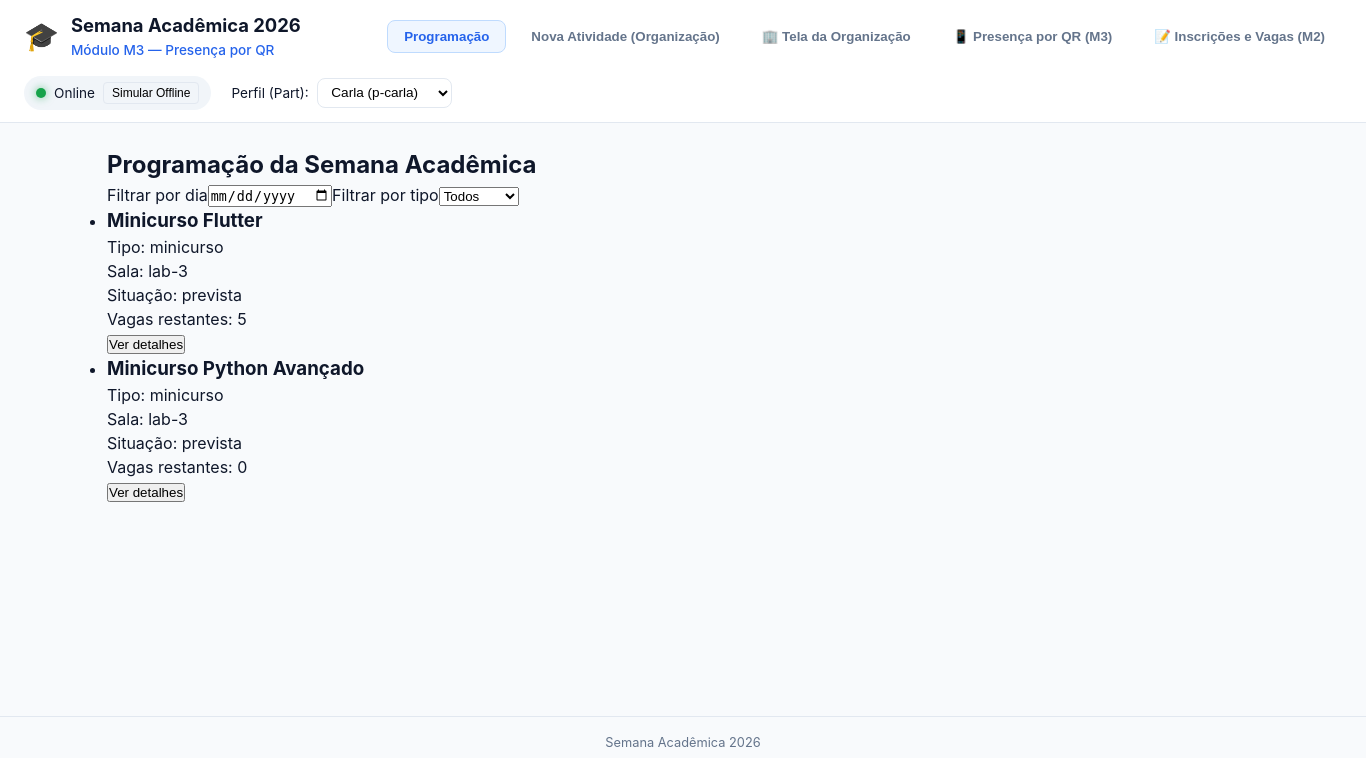
Test: M3 — Suporte Offline e Sincronização Resiliente › integração na aplicação completa: simulação offline via navbar armazena leitura e atualiza badge
// Navega para a tela do participante
Click the button with test id "tab-participante" at (1032, 36), box [936,20,1129,52]
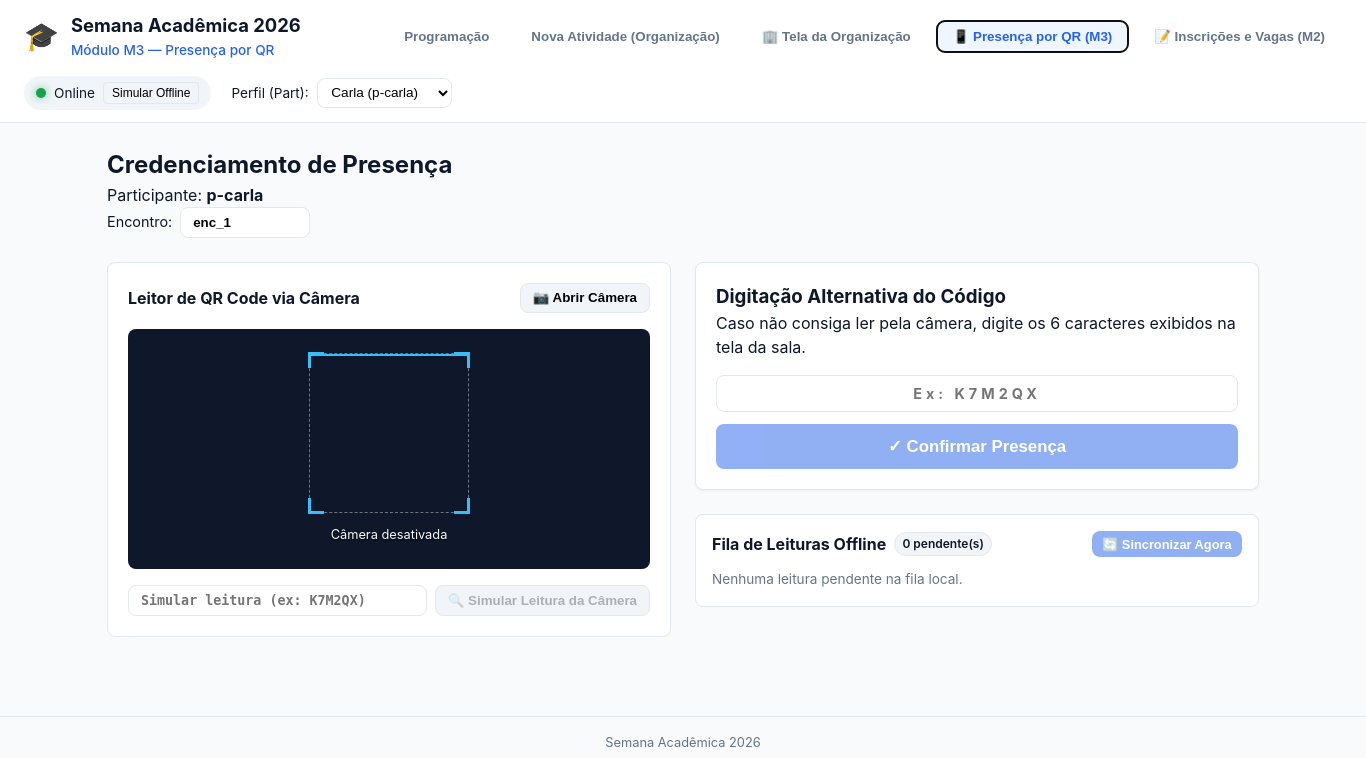
Expected: the element with test id "participante-screen" is shown, [107,147,1259,637]
// Ativa simulação de offline pelo botão da Navbar
Click the button with test id "btn-toggle-offline" at (151, 93), box [103,82,200,104]
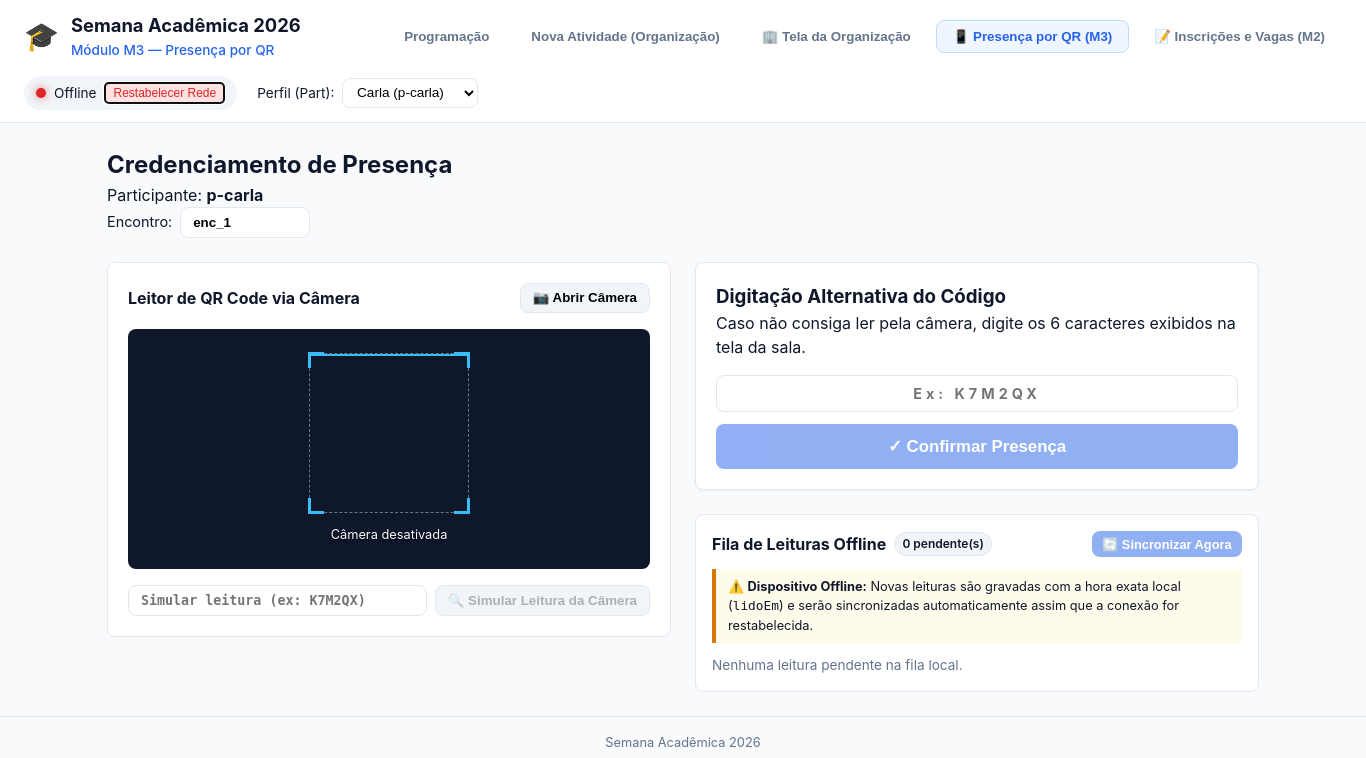
Expected: the text with test id "status-conexao-texto" reads "Offline", [54,85,96,101]
// Digita e confirma código offline
Type "K7M2QX" into the field with test id "input-codigo-manual" at (977, 393), box [716,375,1238,412]
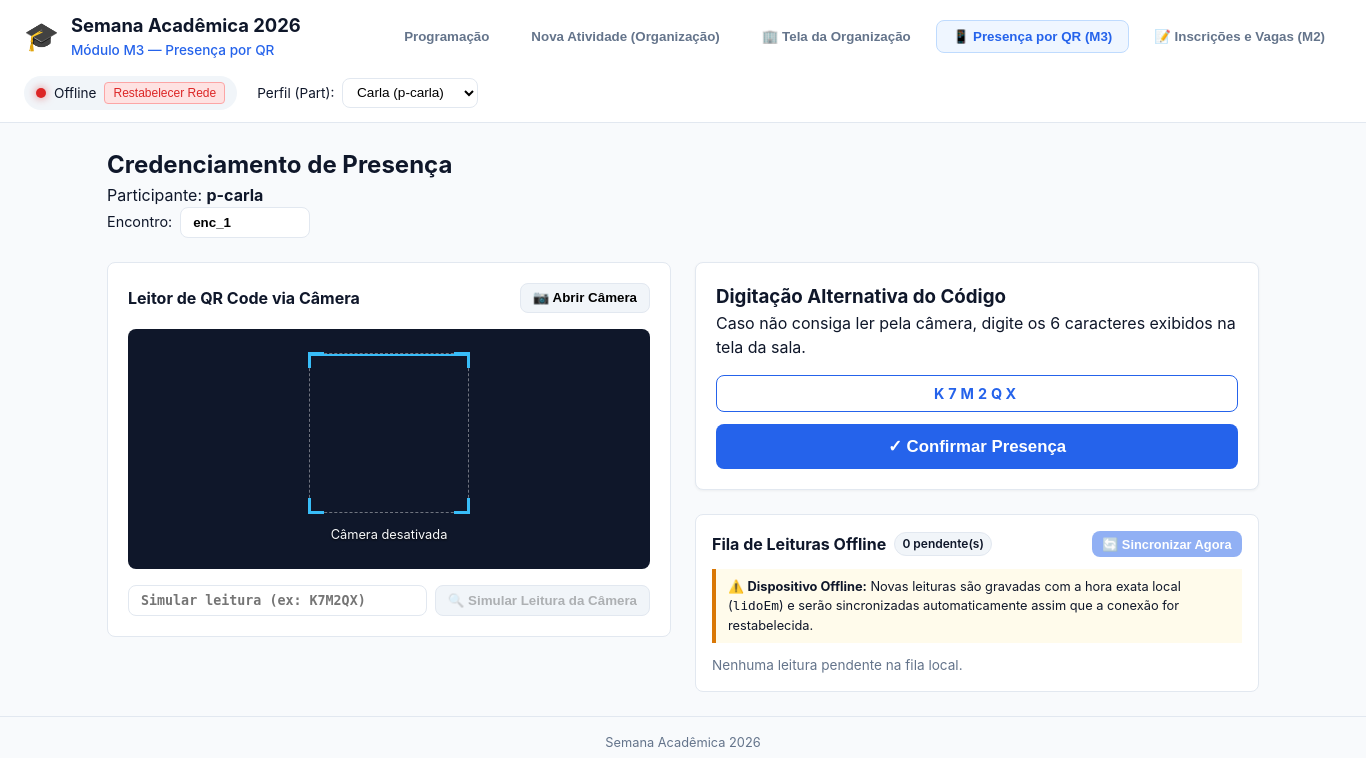
Click the button with test id "btn-confirmar-presenca" at (977, 446), box [716,424,1238,469]
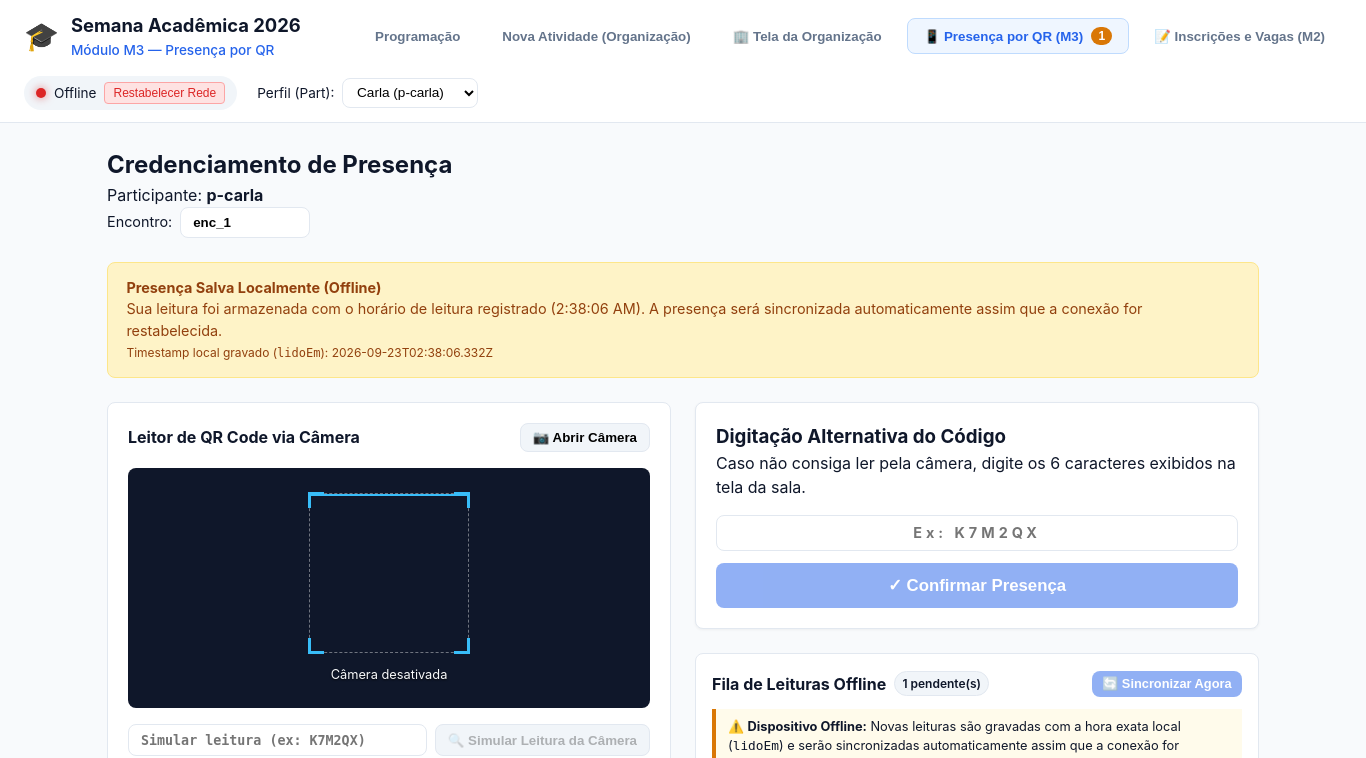
Expected: the text with test id "nav-badge-pendentes" reads "1", [1098,29,1105,43]
// Restabelece a rede via Navbar
Click the button with test id "btn-toggle-offline" at (165, 93), box [104,82,225,104]
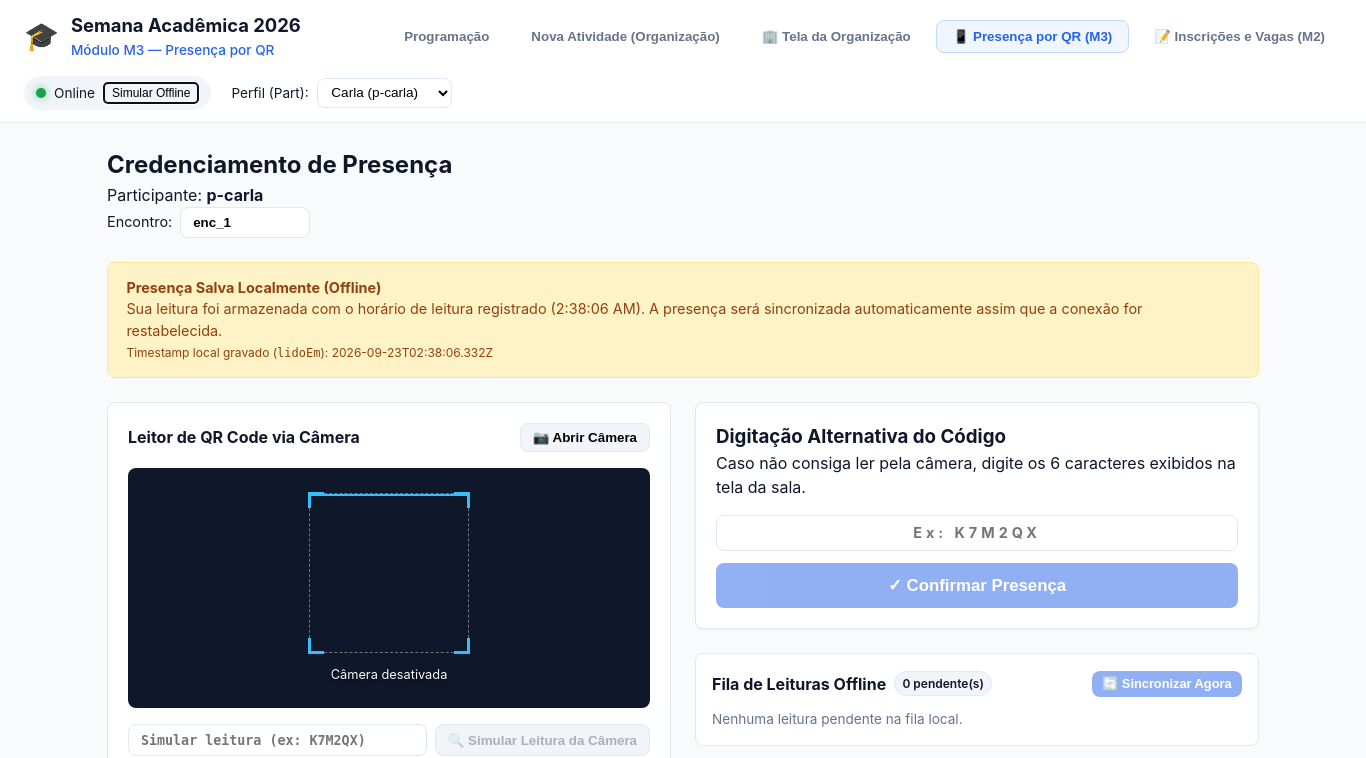
Expected: the text with test id "status-conexao-texto" reads "Online", [54,85,95,101]
Expected: the text with test id "nav-badge-pendentes" is gone
